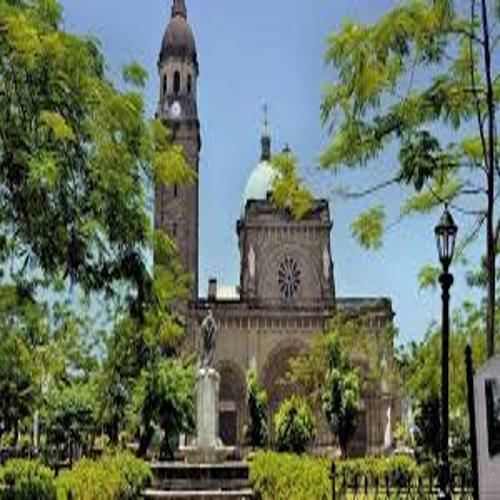Manila Cathedral Church: (101, 1, 412, 471)
